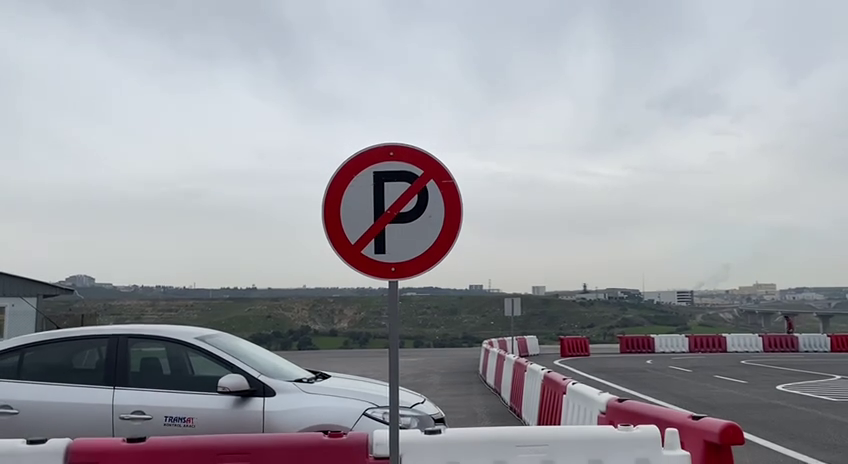noparking: (314, 132, 471, 286)
